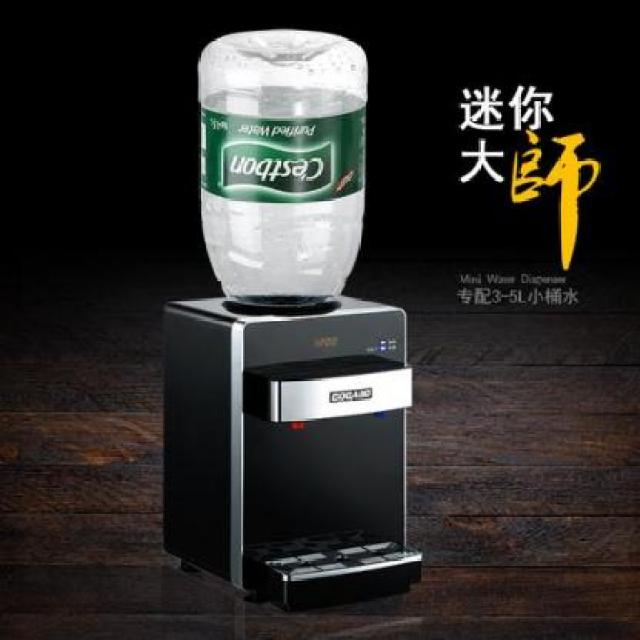cooler: (162, 29, 418, 605)
